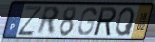8: (57, 5, 79, 37)
G: (77, 7, 98, 37)
Q: (114, 6, 136, 38)
R: (93, 6, 118, 37), (36, 5, 60, 36)
Z: (16, 4, 44, 37)
